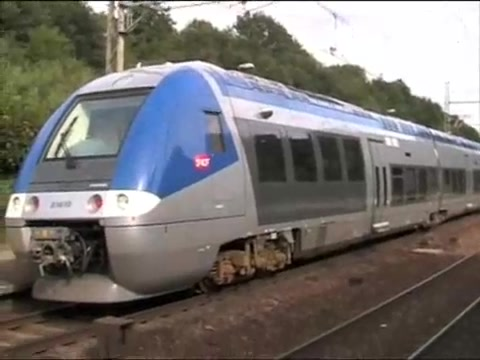train: (4, 60, 480, 312)
